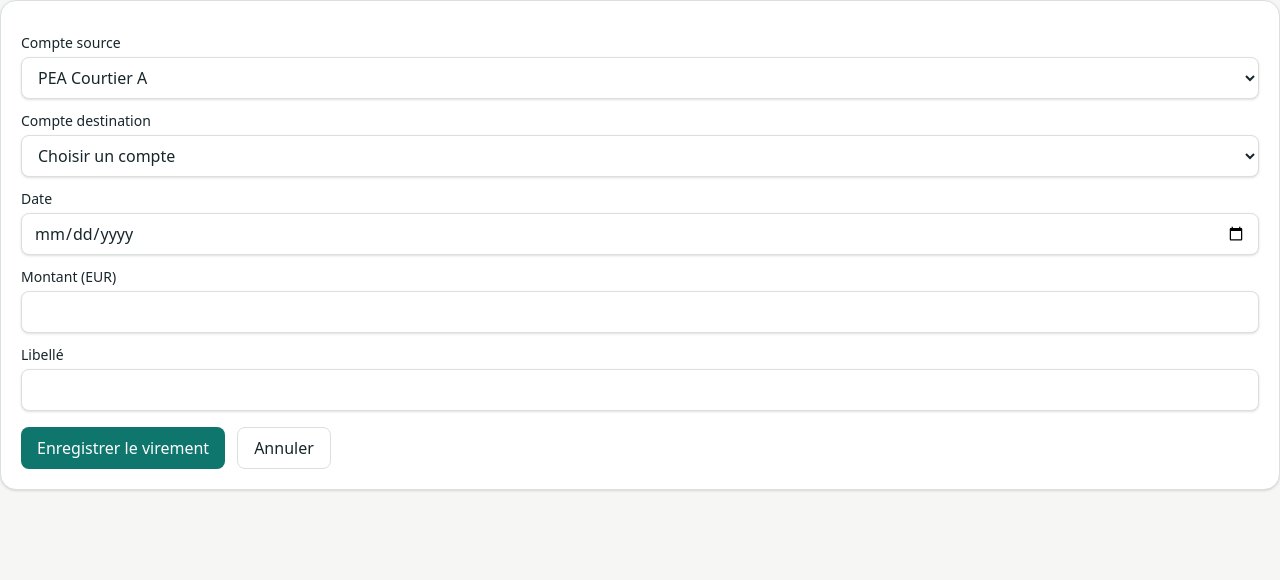
Test case: TransferForm › exige une destination, une date et un montant positif
Click the button "Enregistrer le virement" at (123, 448), box [21,427,225,469]
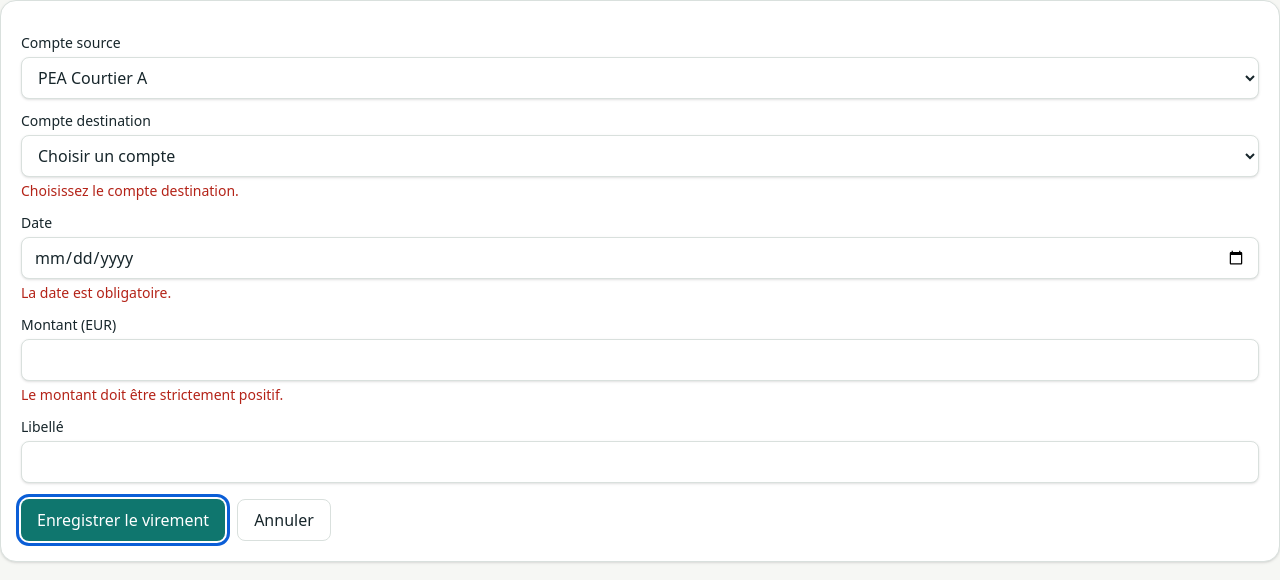
Check: the text "Choisissez le compte destination." is shown, box [21,181,239,200]
Check: the text "La date est obligatoire." is shown, box [21,283,171,302]
Check: the text "Le montant doit être strictement positif." is shown, box [21,385,283,404]
